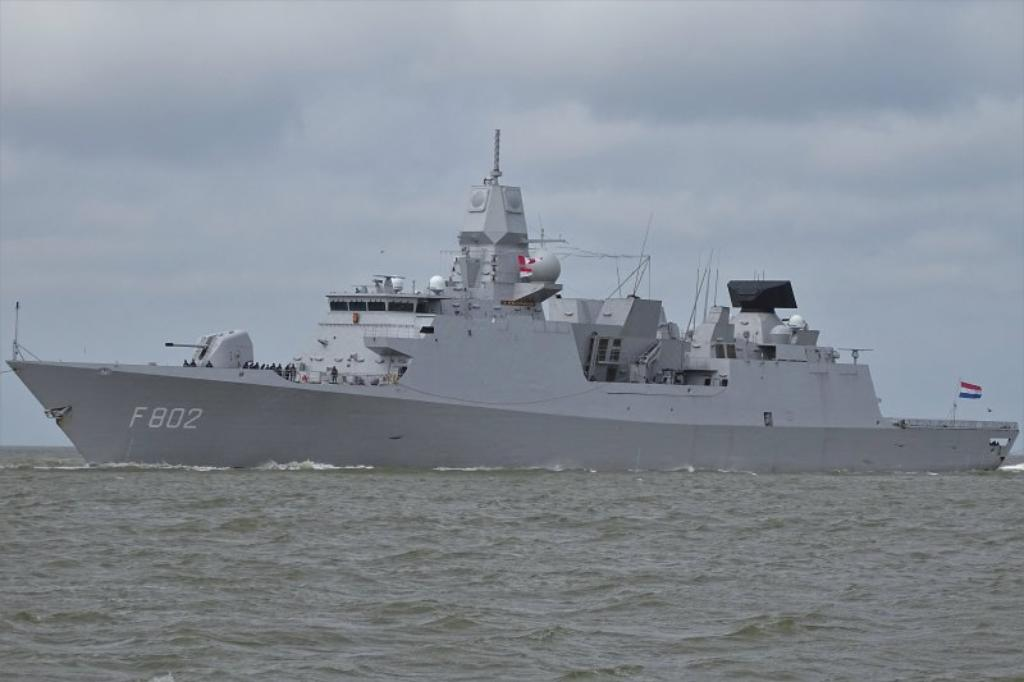Warship: (10, 123, 1022, 477)
